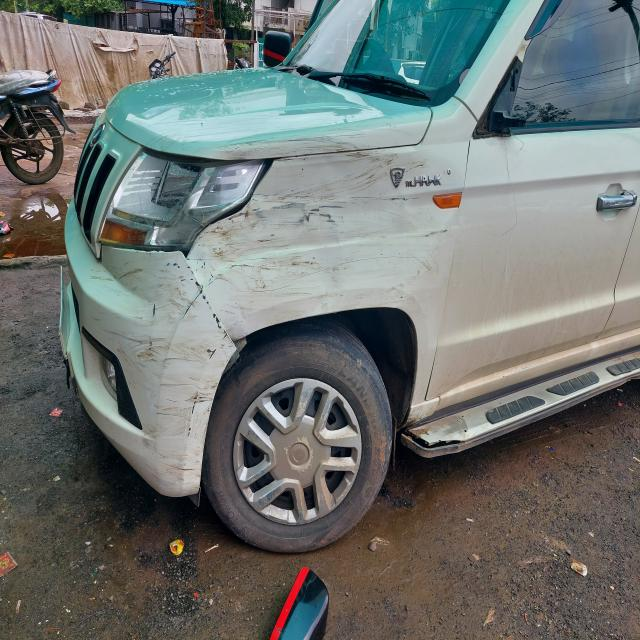damage: (197, 148, 457, 332), (128, 259, 226, 492), (198, 115, 401, 164), (471, 78, 525, 144)
